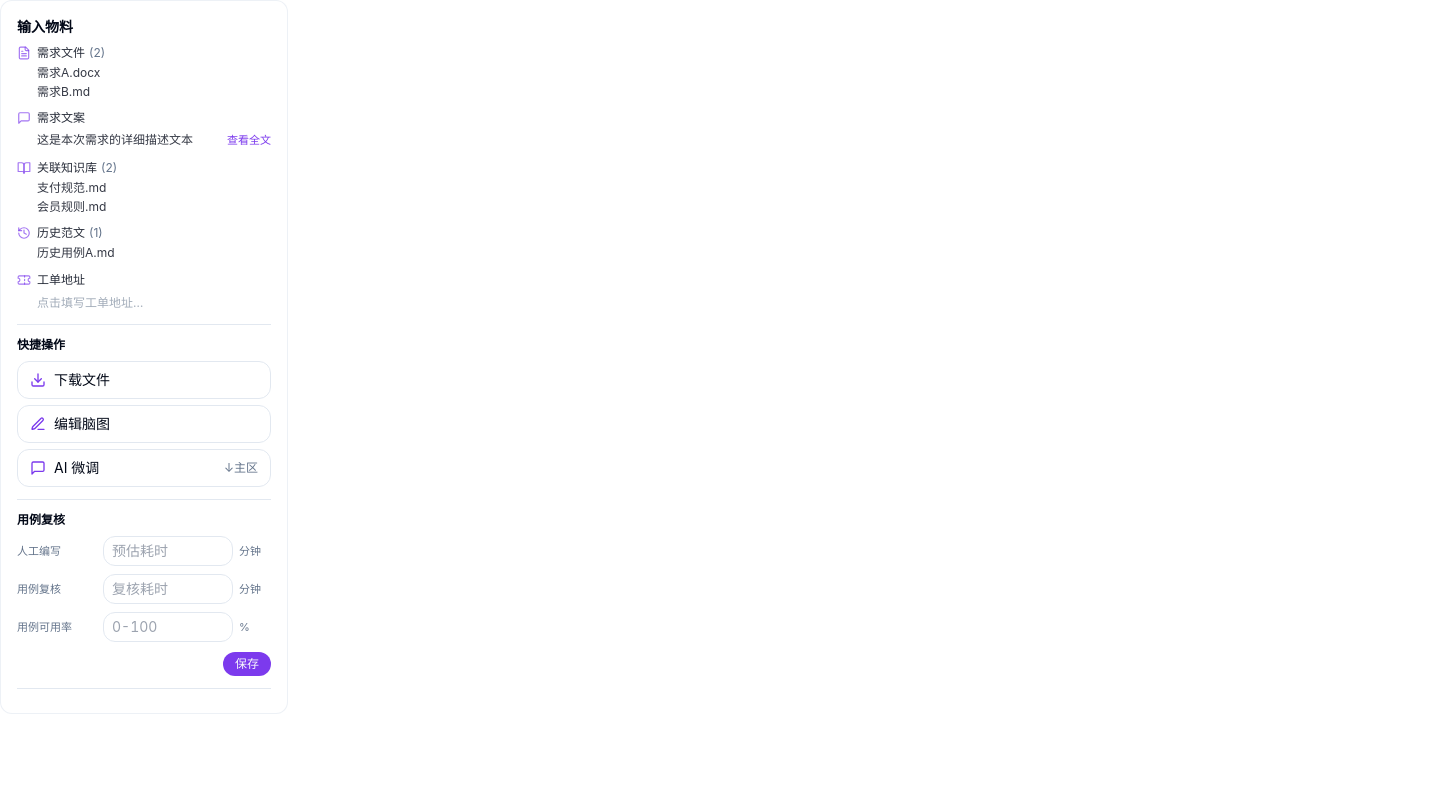
Scenario: ExecutionPanel › Step 2 complete: materials + quick actions + rating › shows all displayable files in download modal, not just latest version
Click the button "下载文件" at coordinates (144, 380), box [17,360,271,398]
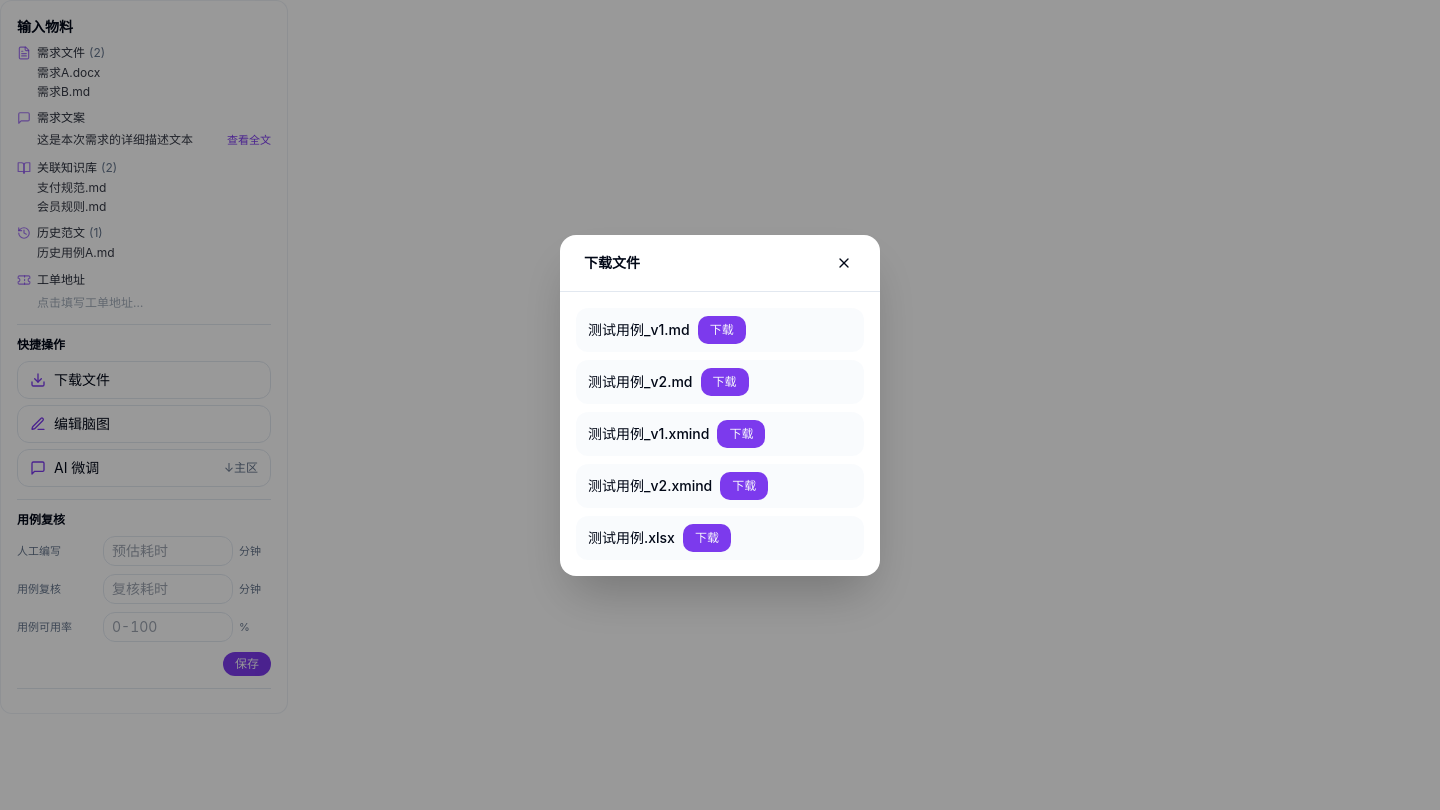
Now the text "测试用例_v1.md" is shown, box [588,320,690,340]
Now the text "测试用例_v2.md" is shown, box [588,372,692,392]
Now the text "测试用例_v1.xmind" is shown, box [588,424,709,444]
